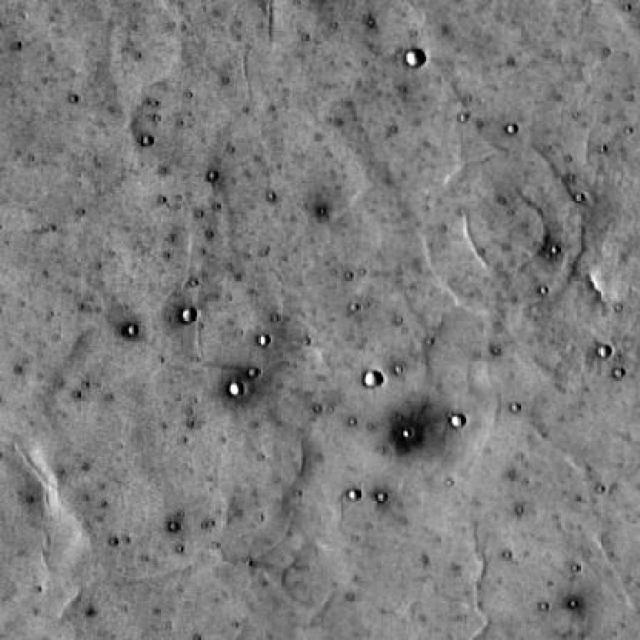crater: (406, 157, 580, 312), (404, 50, 424, 68), (364, 372, 384, 390)
